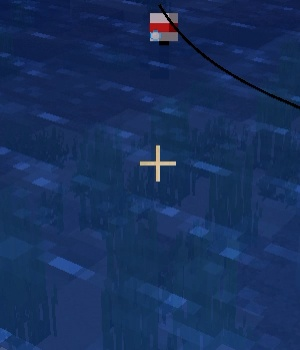up: (144, 13, 176, 68)
